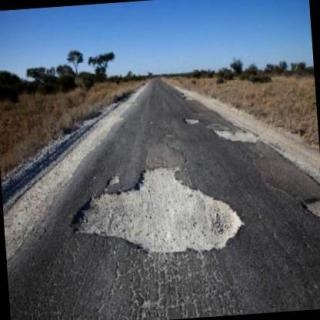pothole: (72, 168, 244, 254), (214, 129, 259, 142), (302, 198, 320, 219), (106, 174, 121, 187), (184, 119, 199, 125)
